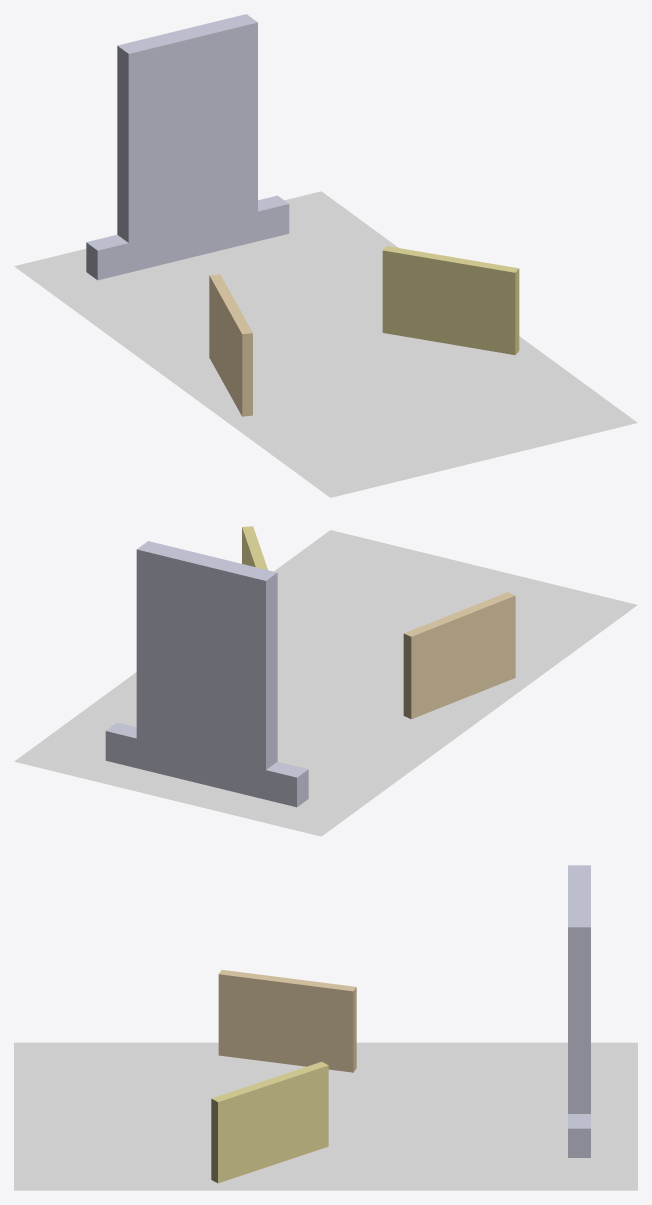
The picture shows the model from 3 angles, top to bottom: view 1: azimuth 30°, elevation 25°; view 2: azimuth 150°, elevation 25°; view 3: azimuth 270°, elevation 25°; orthographic projection.
Visible parts, largest first — view 1: Plane, Cube.001, Cube, Cube.002; view 2: Plane, Cube.001, Cube.002, Cube; view 3: Plane, Cube.002, Cube, Cube.001.
Part boxes in pixels (x1,y1,x2,y2): Plane: (14, 191, 637, 497); Cube.001: (86, 14, 289, 280); Cube: (382, 246, 519, 354); Cube.002: (209, 274, 252, 416); Plane: (14, 530, 637, 836); Cube.001: (105, 541, 308, 807); Cube.002: (403, 592, 515, 719); Cube: (242, 526, 267, 569); Plane: (14, 1042, 637, 1190); Cube.002: (218, 970, 356, 1072); Cube: (211, 1061, 328, 1183); Cube.001: (568, 865, 590, 1157).
Bounding box in the file's own units: 6323 × 4300 × 11273.
